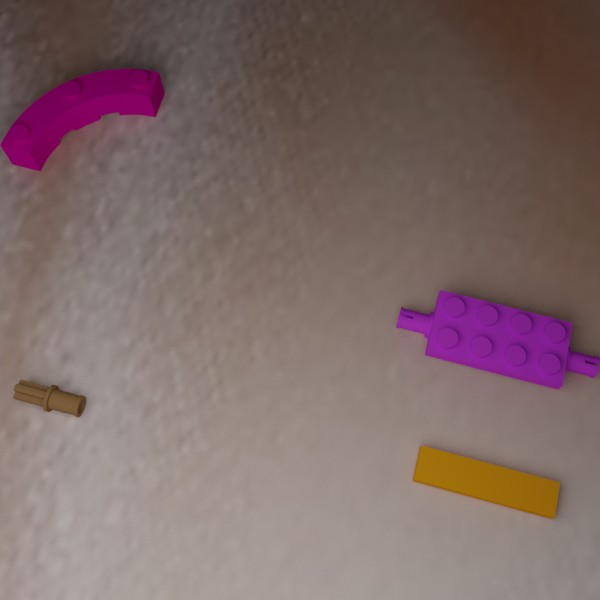lego: (396, 289, 599, 389), (0, 68, 164, 171), (412, 445, 560, 519), (12, 379, 86, 417)
